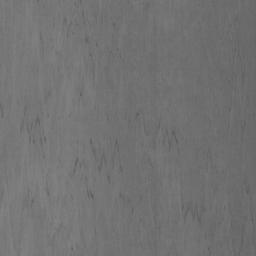Silk spot: (0, 0, 255, 256), (208, 17, 256, 140), (0, 164, 20, 208)
